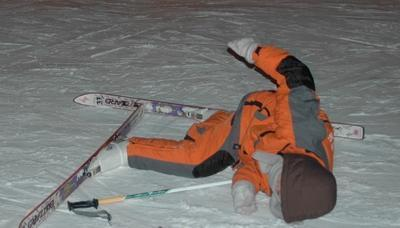Fall-Detected: (85, 27, 348, 220)
